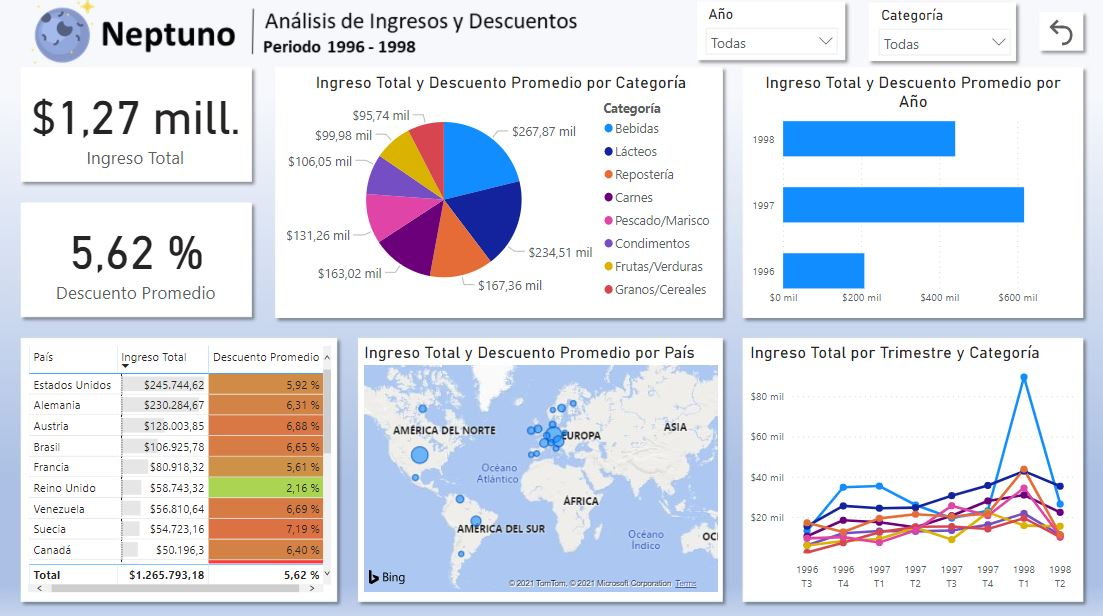

This screenshot's page, from the dashboard's own definition file:
{"tool":"powerbi","page":{"name":"Página 1","canvas":[1280,720],"ordinal":0},"visuals":[{"type":"card","fields":{"Values":["Sum(hventas.mventa)"]},"box":[28.4,86.6,258.5,117.9],"z":0},{"type":"card","fields":{"Values":["Avg(hventas.descuento)"]},"box":[39.8,244.3,235.7,116.4],"z":1000},{"type":"tableEx","fields":{"Values":["dimCliente.pais","Sum(hventas.mventa)","Avg(hventas.descuento)"]},"box":[28.4,400.5,360.7,295.4],"z":2000},{"type":"map","fields":{"Category":["dimCliente.pais"],"Size":["Sum(hventas.mventa)"]},"box":[417.5,400.5,420.4,295.4],"z":3000},{"type":"pieChart","title":"Ingreso Total y Descuento Promedio por Categoría","fields":{"Category":["dimProducto.categoria"],"Y":["Sum(hventas.mventa)"]},"box":[325.2,86.6,512.7,274.1],"z":4000},{"type":"clusteredBarChart","fields":{"Y":["Sum(hventas.mventa)"],"Category":["dimTiempo.fecha.Variación.Jerarquía de fechas.Año","dimTiempo.fecha.Variación.Jerarquía de fechas.Mes"]},"box":[864.9,86.6,387.7,279.8],"z":5000},{"type":"lineChart","fields":{"Category":["dimTiempo.anioTrimestre"],"Y":["Sum(hventas.mventa)"],"Series":["dimProducto.categoria"]},"box":[864.9,400.5,387.7,295.4],"z":6000},{"type":"slicer","fields":{"Values":["dimTiempo.fecha.Variación.Jerarquía de fechas.Año"]},"box":[808,5,173.3,80.9],"z":7000},{"type":"slicer","fields":{"Values":["dimProducto.categoria"]},"box":[1008.3,5.7,173.3,71],"z":7001},{"type":"actionButton","box":[1209.9,21.3,42.6,39.8],"z":7002}]}

Visuals, with their boxes in screenshot pixels (x1, y1, x2, y2), scaled from the page's 1280x720 canvas onto the 1103x616 screenshot:
card - Sum(hventas.mventa): detection(24, 74, 247, 175)
card - Avg(hventas.descuento): detection(34, 209, 237, 309)
tableEx - dimCliente.pais x Sum(hventas.mventa): detection(24, 343, 335, 595)
map - dimCliente.pais x Sum(hventas.mventa): detection(360, 343, 722, 595)
"Ingreso Total y Descuento Promedio por Categoría" pieChart: detection(280, 74, 722, 309)
clusteredBarChart - Sum(hventas.mventa) x dimTiempo.fecha.Variación.Jerarquía de fechas.Año: detection(745, 74, 1079, 313)
lineChart - dimTiempo.anioTrimestre x Sum(hventas.mventa): detection(745, 343, 1079, 595)
slicer - dimTiempo.fecha.Variación.Jerarquía de fechas.Año: detection(696, 4, 846, 73)
slicer - dimProducto.categoria: detection(869, 5, 1018, 66)
actionButton: detection(1043, 18, 1079, 52)
